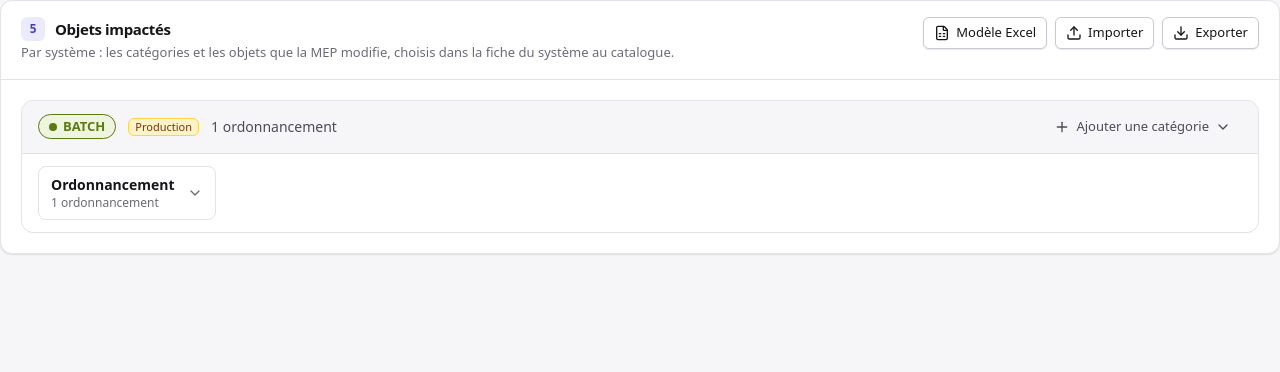
it: Objets impactés › « Ajouter une catégorie » ne propose que les catégories de la fiche non utilisées, et un lien vers la fiche
Click the button "Ajouter une catégorie" at (1143, 126), box [1043,110,1242,142]
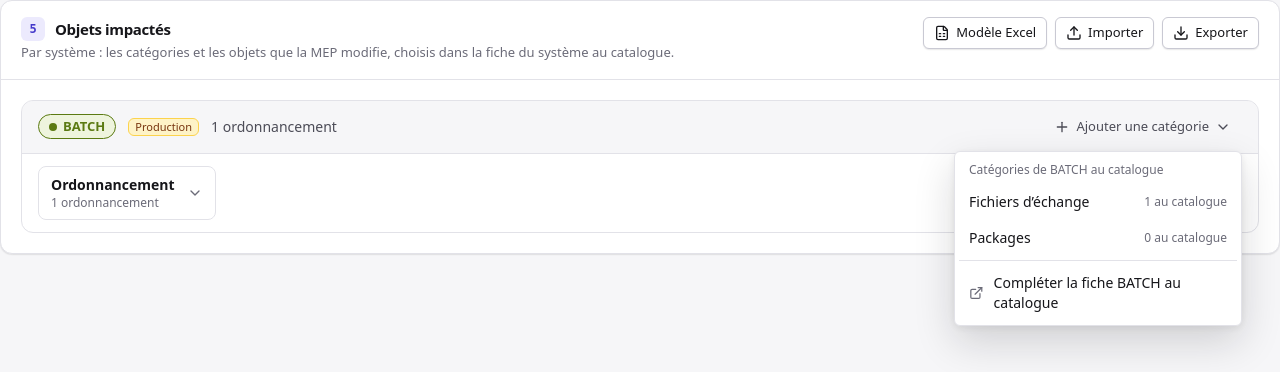
expect the text "Fichiers d’échange" is shown: met, box [969,192,1089,211]
expect the text "Packages" is shown: met, box [969,228,1031,247]
